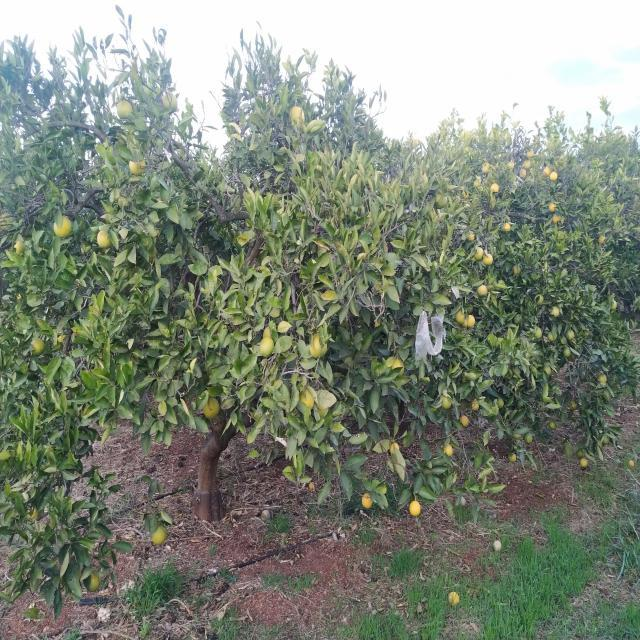Jeruk Belum Matang: (54, 216, 71, 239), (203, 397, 220, 419), (96, 230, 112, 250), (260, 338, 276, 358), (116, 100, 133, 118), (129, 158, 147, 174), (163, 92, 178, 111), (290, 105, 304, 124), (151, 527, 166, 544), (88, 575, 100, 592), (440, 394, 452, 410), (14, 241, 26, 256), (32, 340, 44, 354), (443, 444, 453, 458), (474, 247, 484, 261), (478, 285, 488, 297), (456, 312, 466, 324), (562, 346, 572, 357), (534, 294, 544, 304), (524, 432, 533, 443), (598, 374, 607, 384), (508, 452, 516, 462), (535, 328, 542, 339), (548, 331, 555, 342), (576, 448, 584, 457), (601, 434, 609, 443), (497, 398, 504, 408), (567, 330, 574, 340), (580, 458, 588, 466), (472, 400, 478, 410), (611, 300, 617, 310), (548, 421, 556, 428), (570, 401, 577, 409)
Jeruk Sudah Matang: (308, 333, 326, 358), (300, 390, 314, 410), (361, 492, 373, 509), (392, 359, 404, 376), (410, 500, 420, 516), (484, 254, 494, 267), (466, 315, 476, 327), (459, 416, 468, 428), (552, 213, 562, 223), (491, 184, 499, 194), (548, 203, 556, 212), (542, 167, 550, 176), (526, 149, 534, 158), (550, 172, 557, 182), (504, 223, 511, 232), (598, 236, 606, 243), (520, 169, 526, 178), (524, 160, 530, 169), (508, 162, 514, 168)
